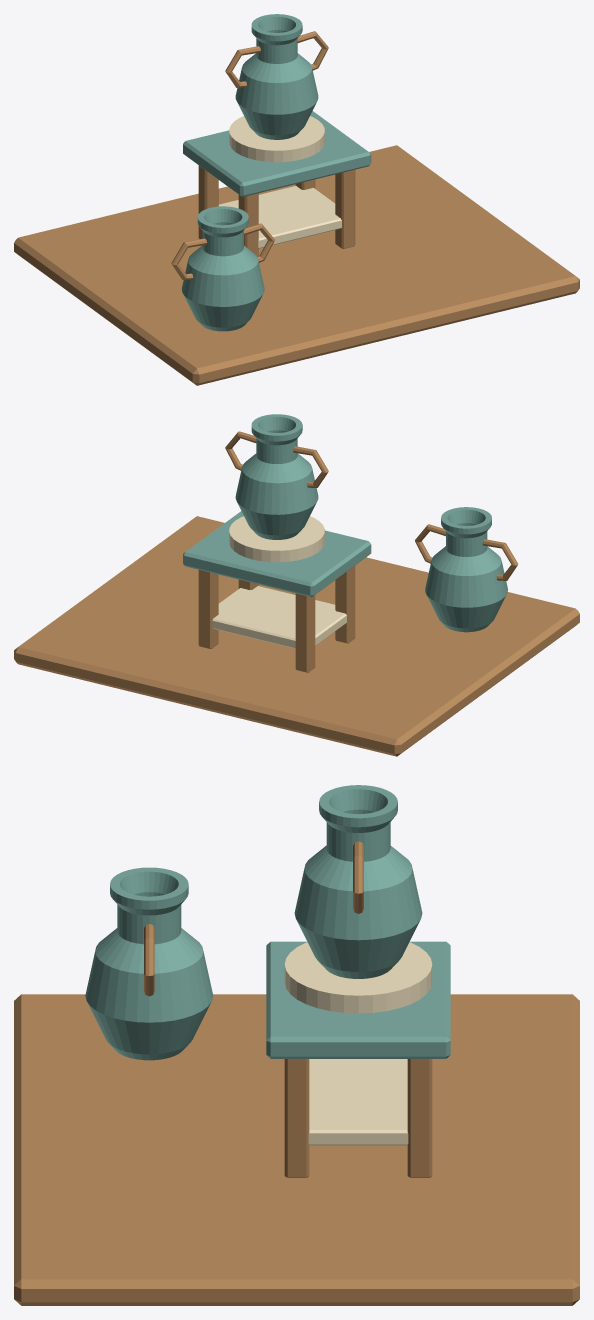
The picture shows the model from 3 angles, top to bottom: view 1: azimuth 30°, elevation 25°; view 2: azimuth 150°, elevation 25°; view 3: azimuth 270°, elevation 25°; orthographic projection. The views are drawn at different scales.
Visible parts, largest first — view 1: ceramics-work-corner-scene-01; view 2: ceramics-work-corner-scene-01; view 3: ceramics-work-corner-scene-01.
Part boxes in pixels (x1=…): ceramics-work-corner-scene-01: x1=14, y1=14, x2=579, y2=385; ceramics-work-corner-scene-01: x1=14, y1=414, x2=579, y2=756; ceramics-work-corner-scene-01: x1=14, y1=785, x2=579, y2=1305.
Size of the model in its own units: 2.8 by 1.62 by 2.3.
